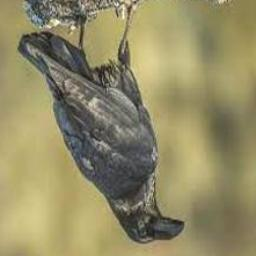Crow: (19, 0, 185, 244)
